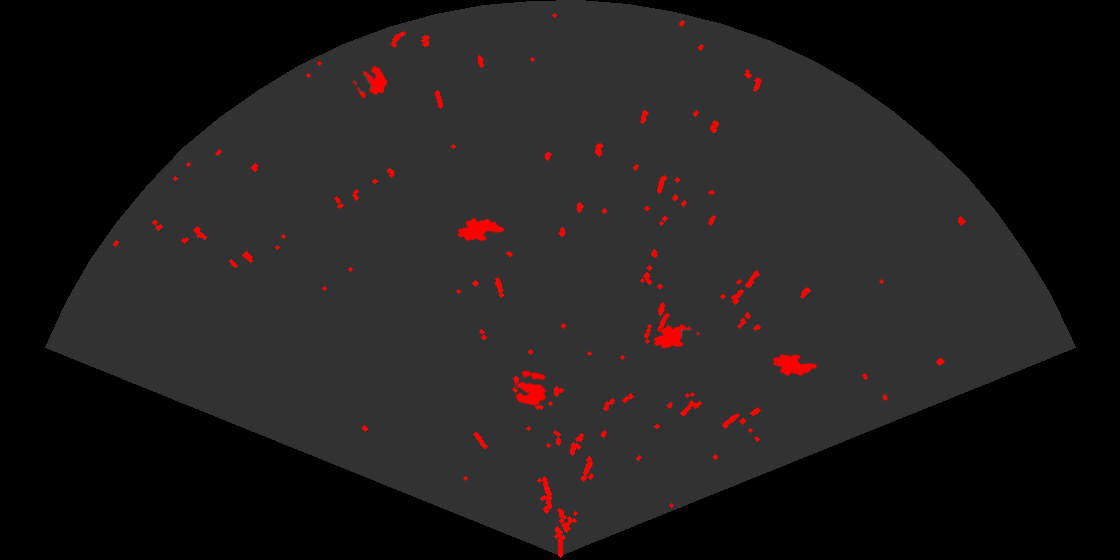AUV: (652, 323, 702, 350), (456, 217, 506, 242), (771, 352, 819, 377)
ball: (513, 369, 548, 407), (351, 65, 389, 100)
